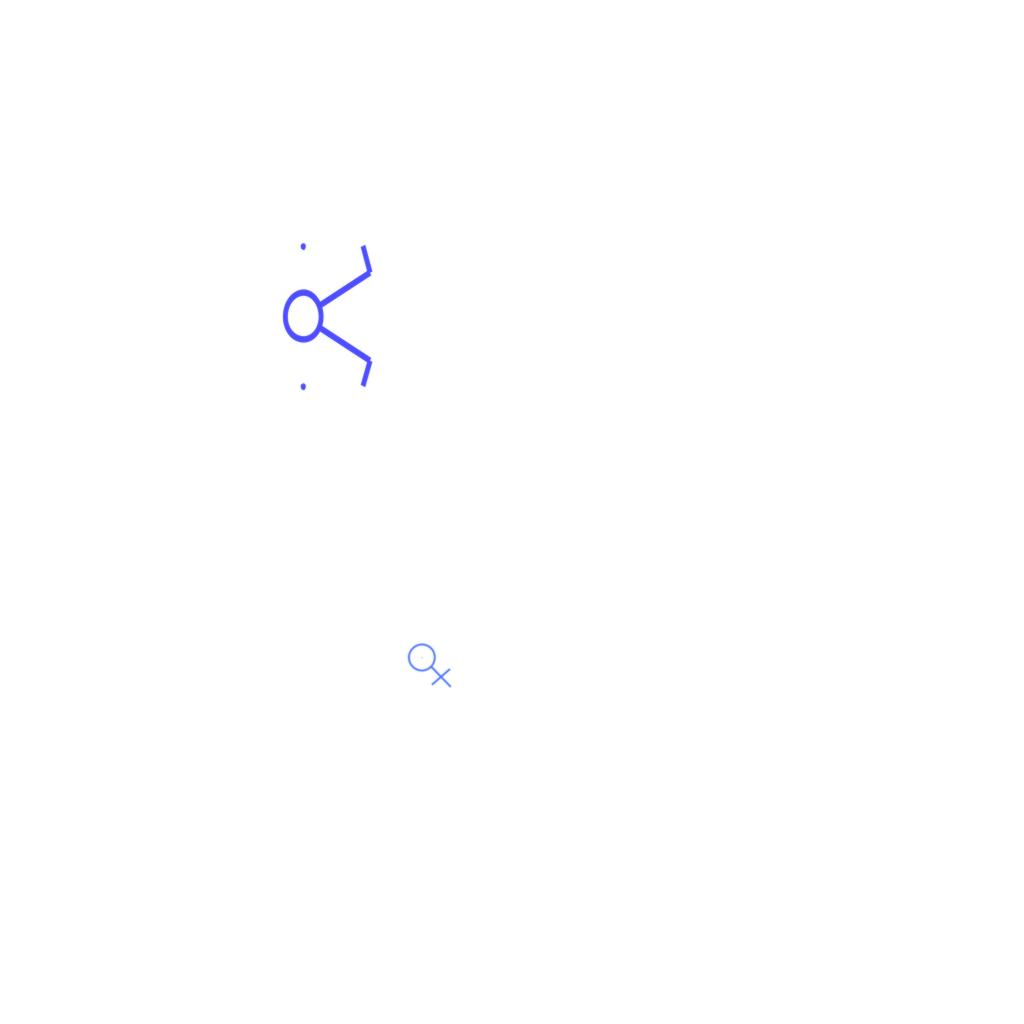Elektroanschluss_allgemein_230V_Geraeteanschlussdose_230V: (407, 639, 454, 688)
Serienschalter: (281, 231, 377, 399)
